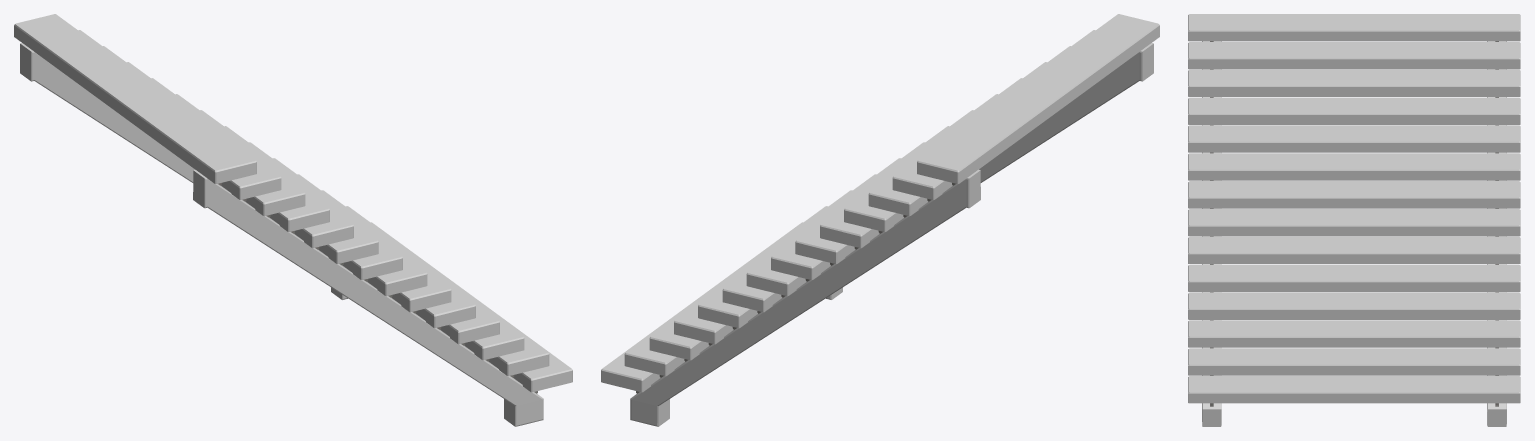
File: SM_Stair_Glass_68a373.glb
The picture shows the model from 3 angles, left to right: view 1: azimuth 30°, elevation 25°; view 2: azimuth 150°, elevation 25°; view 3: azimuth 270°, elevation 25°; orthographic projection. The views are drawn at different scales.
Size of the model in its own units: 4.11 by 3.68 by 3.99.
2 materials, 1 textured.
